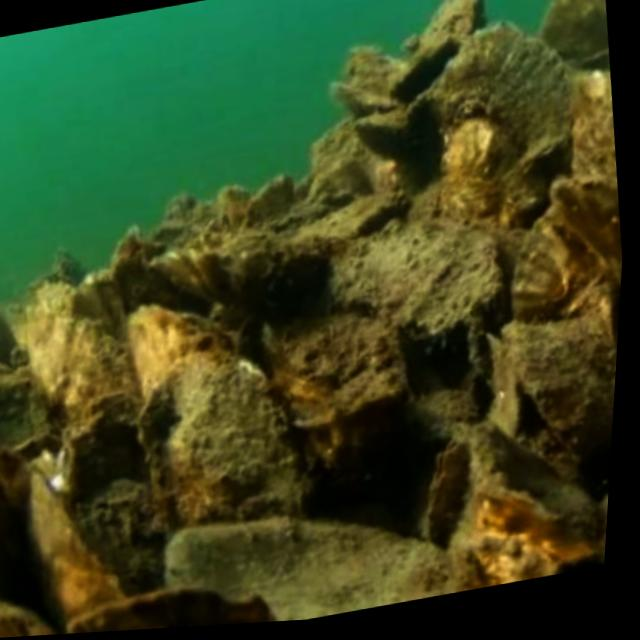Oyster-Indeterminate: (161, 515, 469, 621), (147, 351, 316, 531), (440, 19, 567, 190), (506, 294, 620, 458), (258, 314, 407, 425), (330, 231, 487, 335), (26, 475, 132, 627), (156, 248, 327, 318), (67, 586, 272, 634), (514, 222, 605, 325), (548, 187, 622, 279), (126, 310, 214, 383), (533, 0, 609, 62), (388, 32, 459, 97), (355, 102, 424, 161), (413, 0, 483, 44), (0, 605, 55, 638)
